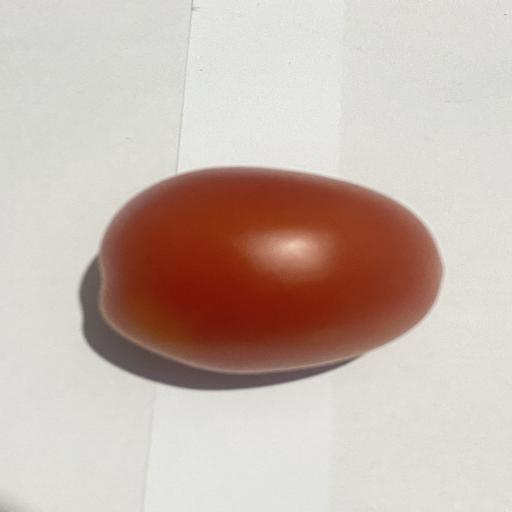ripe: (98, 167, 442, 374)
